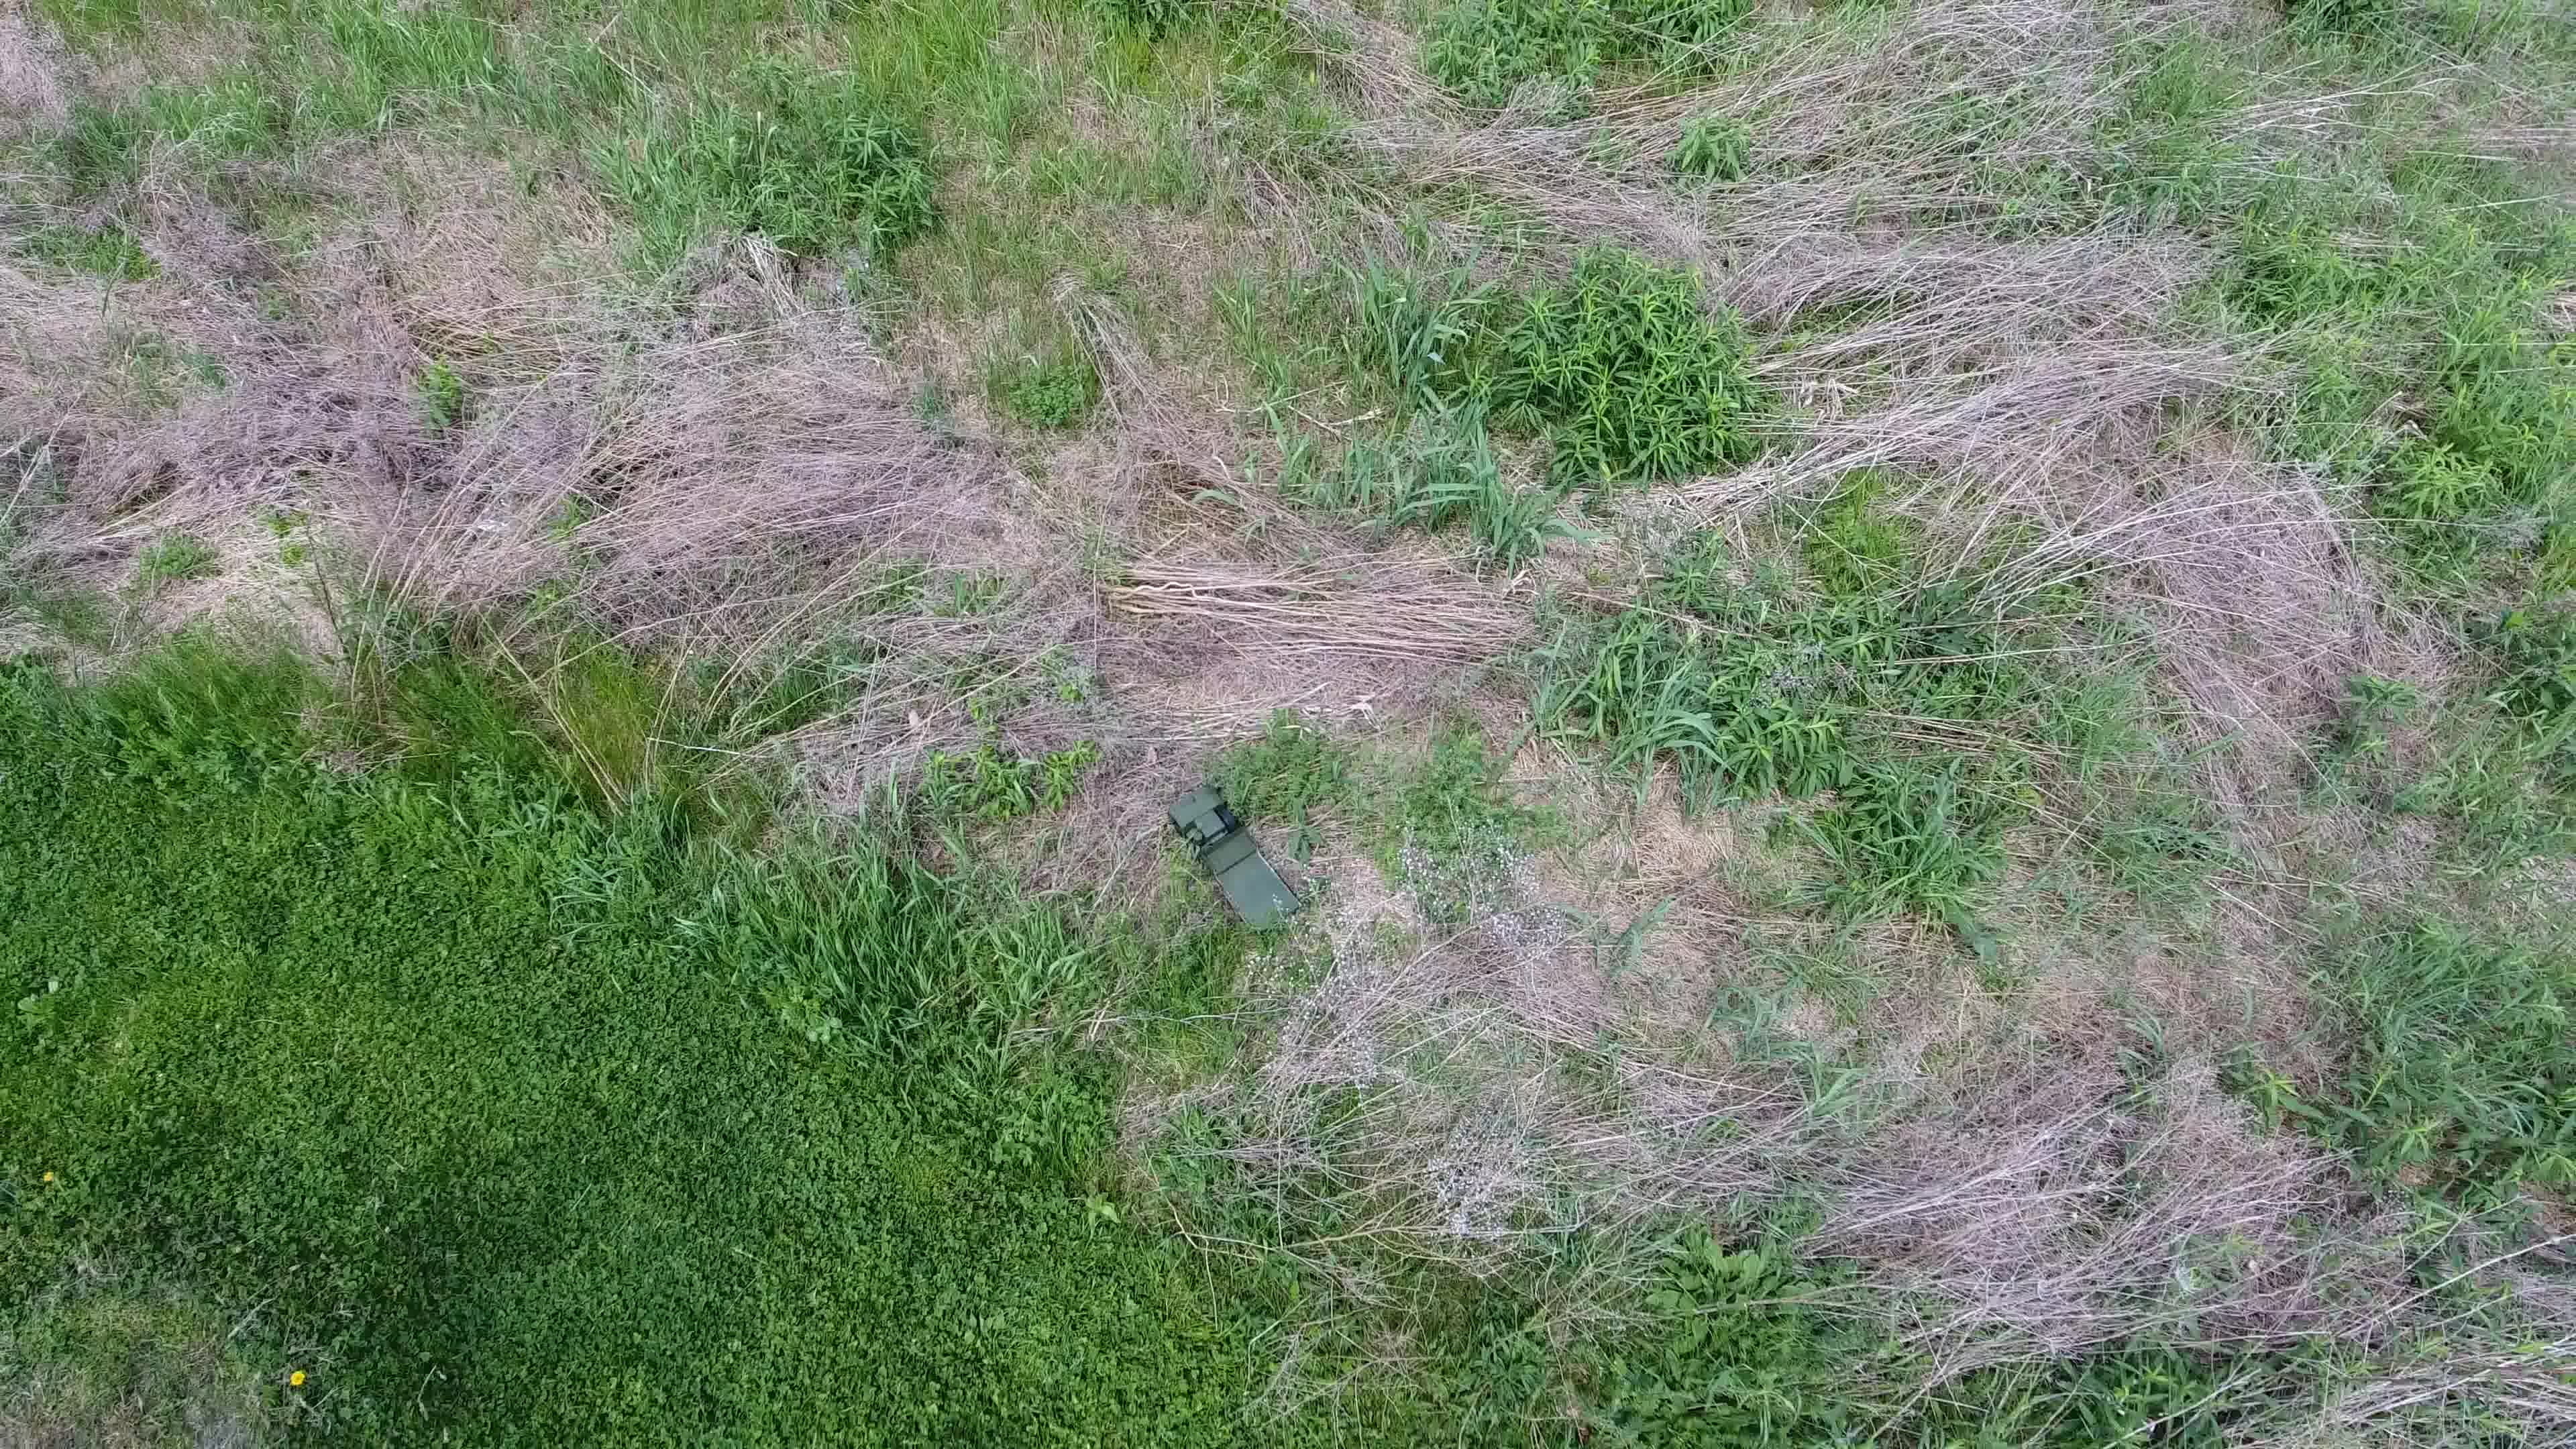transporter9: (1162, 777, 1313, 947)
